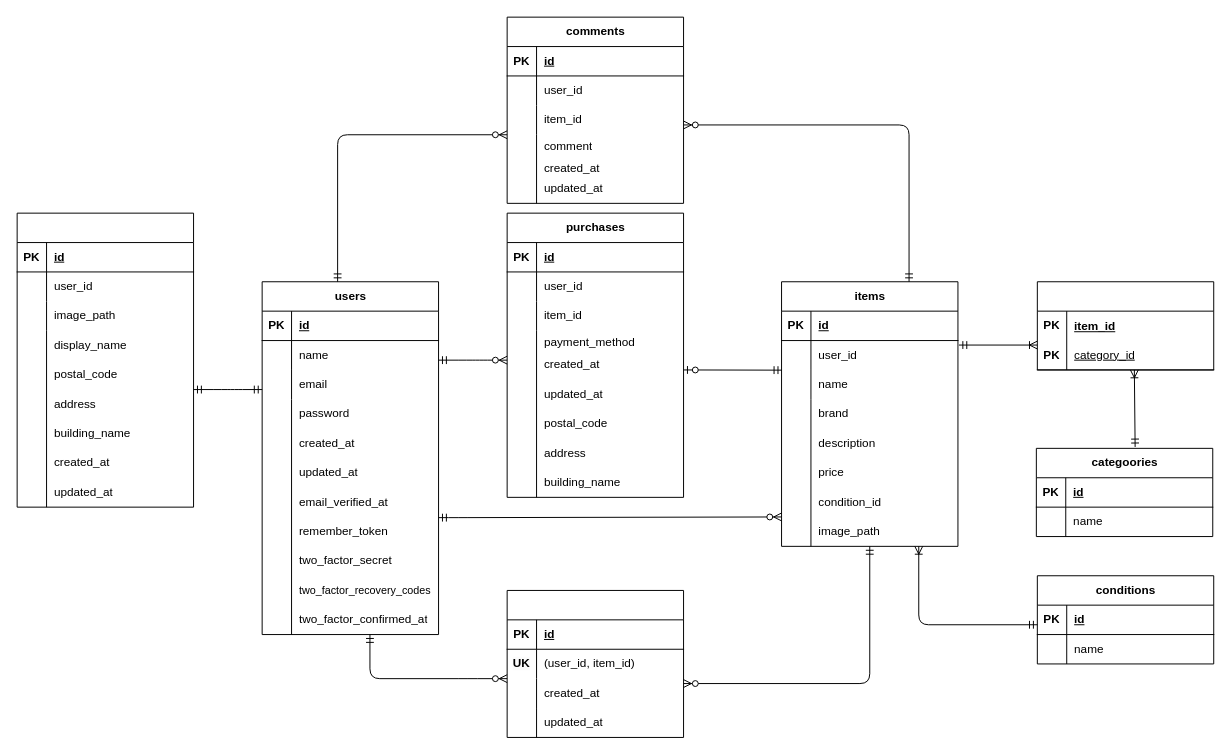
This 1231x755 diagram has some shape labels left out. Each missing label, with the box of its shape:
category_item: (1036, 281, 1214, 370)
likes: (506, 589, 684, 737)
profiles: (16, 212, 194, 507)
